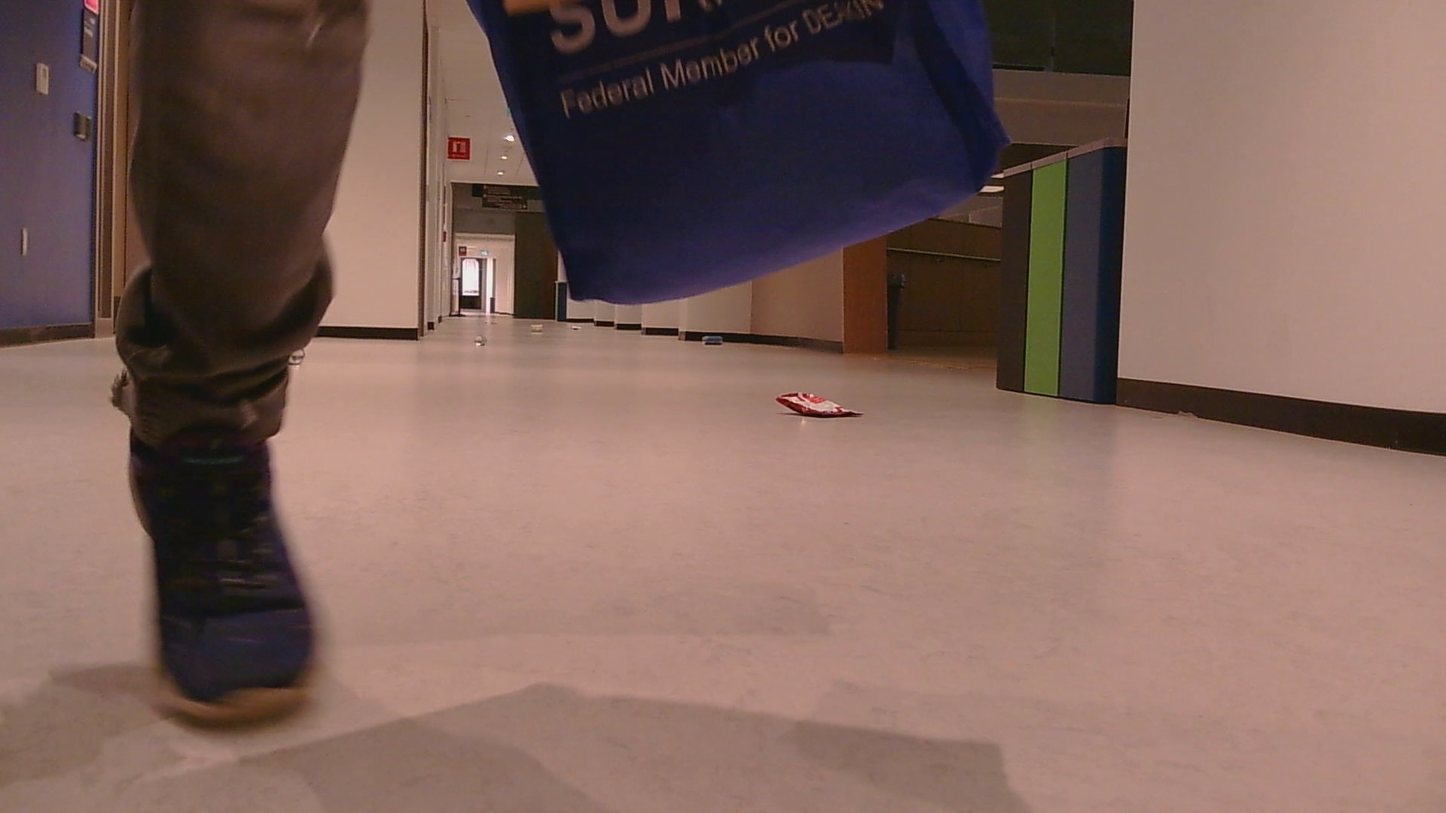carton: (776, 370, 853, 423)
